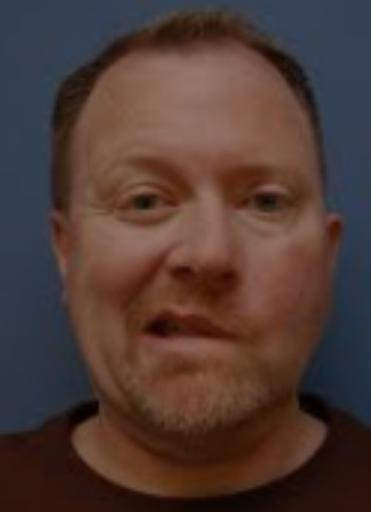left_eye: (239, 189, 301, 217)
left_lip_corner: (230, 329, 248, 351)
right_eye: (120, 192, 178, 220)
right_lip_corner: (136, 319, 155, 346)
